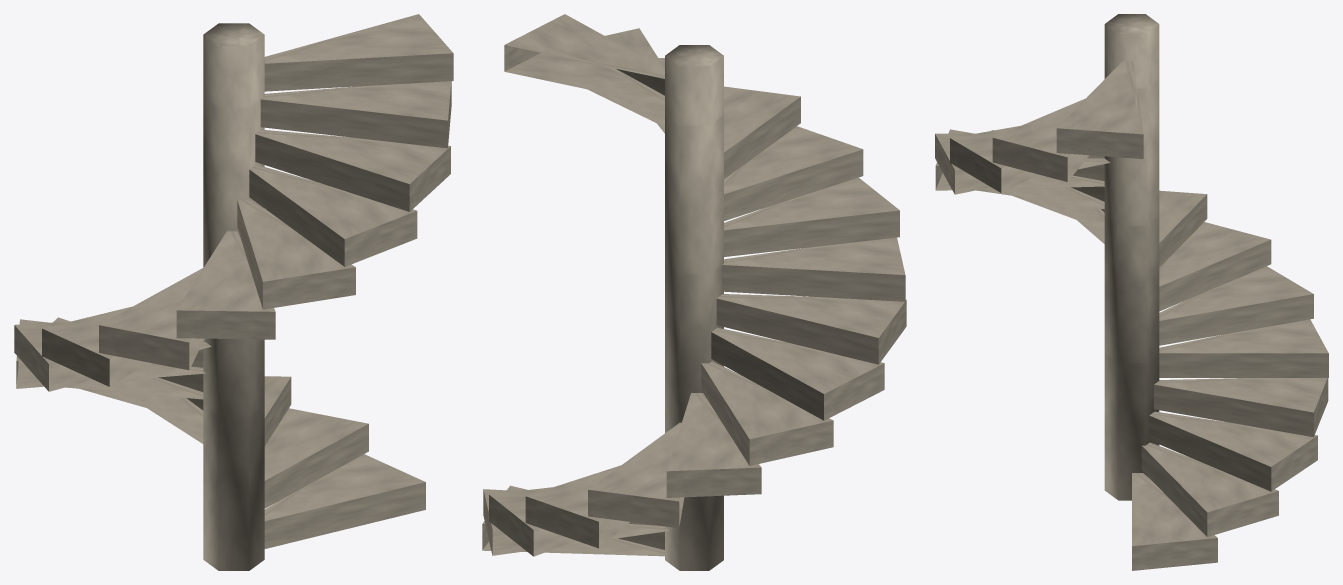
File: Stair_Spiral_1_LOD1.gltf
The picture shows the model from 3 angles, left to right: view 1: azimuth 30°, elevation 25°; view 2: azimuth 150°, elevation 25°; view 3: azimuth 270°, elevation 25°; orthographic projection. The views are drawn at different scales.
Visible parts, largest first — view 1: Stair_Spiral_1_LOD1; view 2: Stair_Spiral_1_LOD1; view 3: Stair_Spiral_1_LOD1.
Part boxes in pixels (box(x1,y1,x2,y2)): Stair_Spiral_1_LOD1: box(14, 14, 453, 570); Stair_Spiral_1_LOD1: box(482, 14, 906, 570); Stair_Spiral_1_LOD1: box(935, 14, 1328, 570).
Bounding box in the file's own units: 2.6 × 3.4 × 2.6.
Materials: 1 (1 with a texture image).
